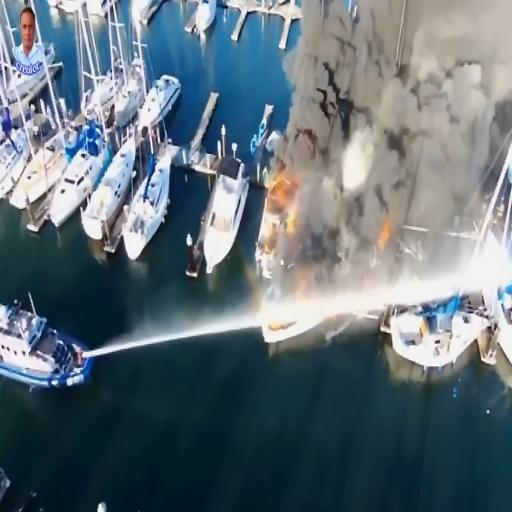fire: (260, 175, 306, 226)
smoke: (327, 0, 452, 149)
